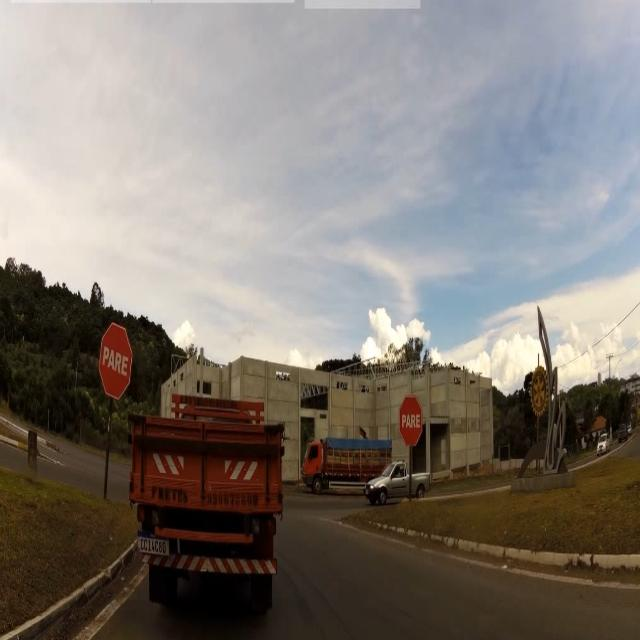R-1: (95, 318, 133, 398), (396, 389, 427, 449)
